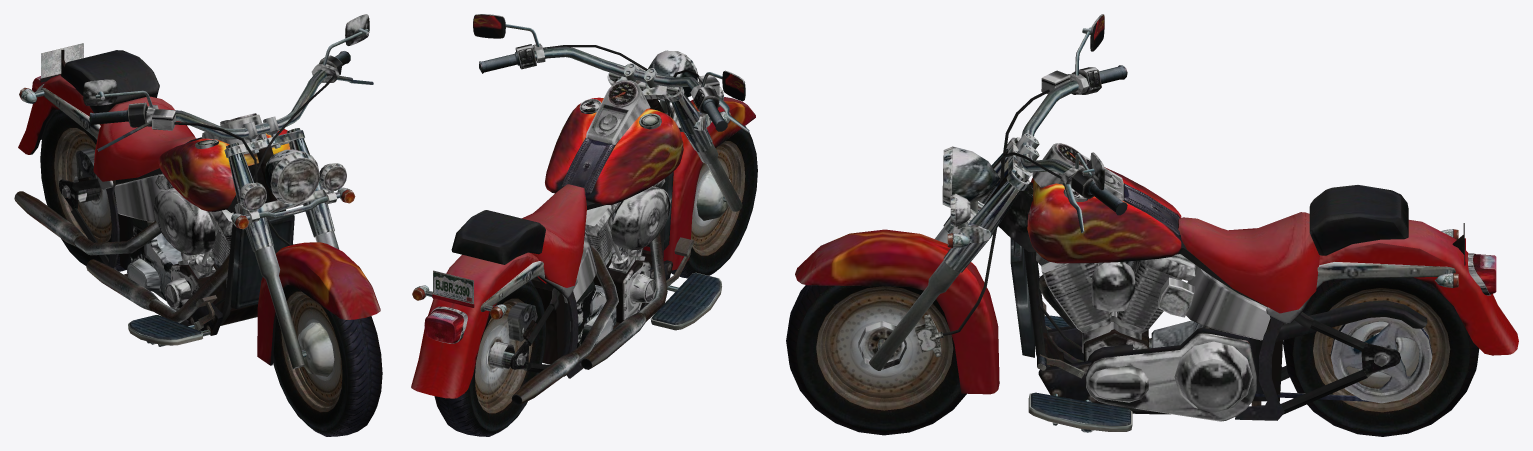
File: bullet.glb
3 views of the same model, side by side, from view 1: azimuth 30°, elevation 25°; view 2: azimuth 150°, elevation 25°; view 3: azimuth 270°, elevation 25° (orthographic). The views are drawn at different scales.
Visible parts, largest first — view 1: Object_6, Object_7, Object_2, Object_5, Object_4; view 2: Object_6, Object_7, Object_2, Object_5, Object_3, Object_4; view 3: Object_6, Object_7, Object_2, Object_5.
Boxes of the visible parts, x1=… form: Object_6: x1=14, y1=14, x2=380, y2=376; Object_7: x1=40, y1=109, x2=382, y2=436; Object_2: x1=40, y1=49, x2=294, y2=335; Object_5: x1=57, y1=134, x2=100, y2=241; Object_4: x1=41, y1=43, x2=83, y2=78; Object_6: x1=411, y1=14, x2=755, y2=405; Object_7: x1=434, y1=126, x2=757, y2=436; Object_2: x1=432, y1=99, x2=673, y2=378; Object_5: x1=488, y1=319, x2=529, y2=409; Object_3: x1=473, y1=15, x2=743, y2=100; Object_4: x1=433, y1=270, x2=473, y2=303; Object_6: x1=795, y1=14, x2=1518, y2=432; Object_7: x1=786, y1=277, x2=1479, y2=436; Object_2: x1=982, y1=173, x2=1465, y2=420; Object_5: x1=833, y1=305, x2=930, y2=392.
Bounding box in the file's own units: 1.25 × 1.29 × 2.5.
Materials: 6 (6 with a texture image).
